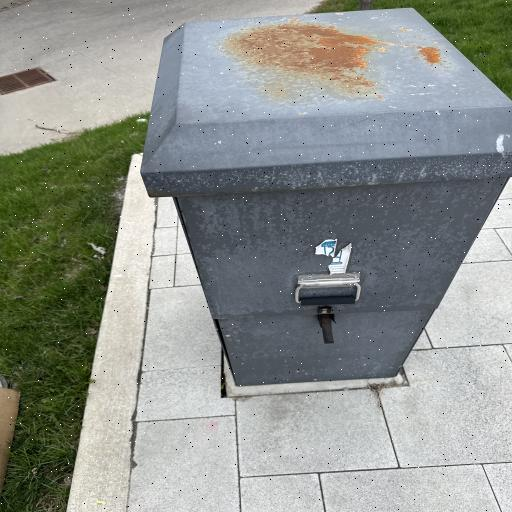Electrical Box: (137, 8, 512, 384)
